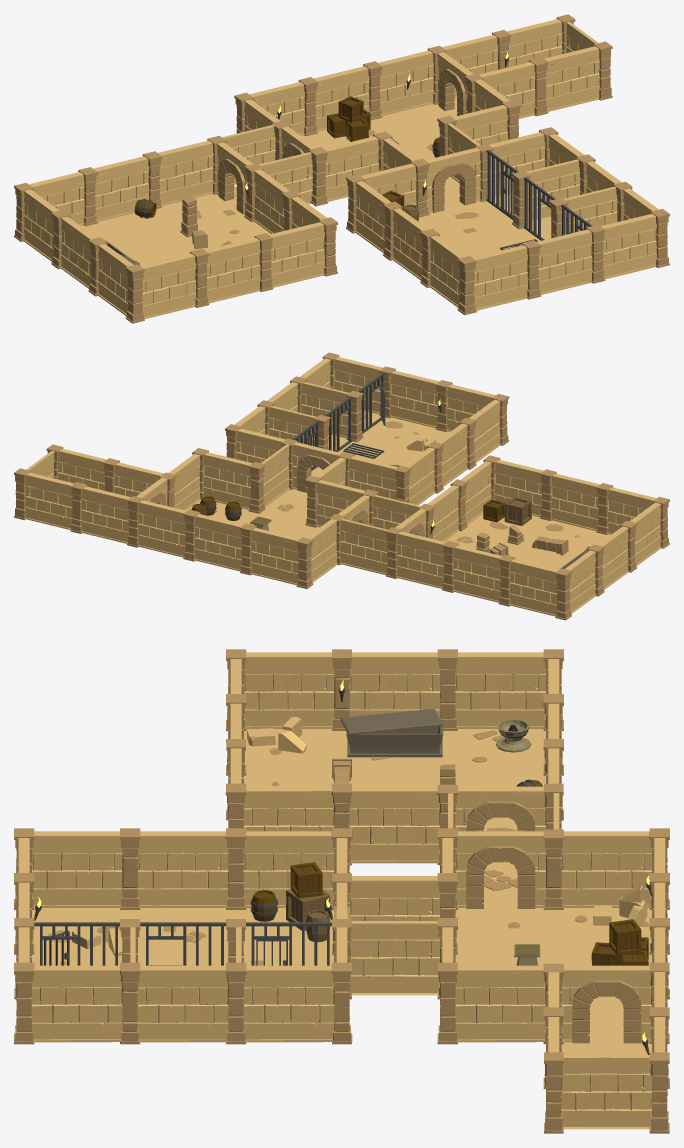
Rendered from ModularDungeonSandBiome_ExampleScene.glb.
3 renders of one model, top to bottom at view 1: azimuth 30°, elevation 25°; view 2: azimuth 150°, elevation 25°; view 3: azimuth 270°, elevation 25°, orthographic. The views are drawn at different scales.
Parts seen in each view (by area): view 1: Pillar1Wall1.006, Pillar1Wall1.017, Pillar1Wall1.002, Pillar1Wall1.013, Pillar2Wall1.007, Pillar2Wall1.006, Pillar2Wall1.001, Pillar1Wall1.014, Pillar2Wall1.008, Pillar2Wall1.005, Pillar1Wall1.010, Pillar2Door.001 (+47 smaller); view 2: Pillar3Wall1.001, Pillar1Wall1.019, Pillar2Wall1.008, Pillar1Wall1.011, Pillar2Wall1.002, Pillar2Wall1.005, Pillar1Wall1.013, Pillar1Wall1.014, Pillar1Wall1.012, Pillar3Wall1.006, Pillar1Wall1.002, Pillar2Wall1.007 (+46 smaller); view 3: Pillar1Wall1.007, Pillar3Wall1.002, Pillar1Wall1.003, Pillar1Wall1.020, Pillar1Wall1.004, Pillar3Wall1.003, Pillar3Wall1.009, Pillar3Wall1.008, Pillar1Wall1.016, Pillar1Wall1.008, Pillar1Wall1.015, Pillar3Door.001 (+55 smaller).
Boxes of the visible parts, x1,y1,x2,y2 form: Pillar1Wall1.006: [457, 245, 528, 315]; Pillar1Wall1.017: [125, 253, 196, 323]; Pillar1Wall1.002: [522, 229, 592, 299]; Pillar1Wall1.013: [190, 238, 260, 307]; Pillar2Wall1.007: [254, 222, 325, 291]; Pillar2Wall1.006: [544, 41, 612, 111]; Pillar2Wall1.001: [586, 214, 657, 283]; Pillar1Wall1.014: [93, 151, 161, 221]; Pillar2Wall1.008: [158, 135, 226, 205]; Pillar2Wall1.005: [378, 45, 446, 115]; Pillar1Wall1.010: [309, 136, 379, 206]; Pillar2Door.001: [425, 143, 493, 213]; Pillar3Wall1.001: [203, 452, 265, 513]; Pillar1Wall1.019: [498, 554, 558, 616]; Pillar2Wall1.008: [385, 527, 445, 588]; Pillar1Wall1.011: [183, 509, 243, 571]; Pillar2Wall1.002: [14, 468, 73, 529]; Pillar2Wall1.005: [127, 496, 186, 557]; Pillar1Wall1.013: [551, 473, 613, 534]; Pillar1Wall1.014: [442, 541, 502, 602]; Pillar1Wall1.012: [240, 523, 299, 585]; Pillar3Wall1.006: [70, 482, 130, 543]; Pillar1Wall1.002: [390, 370, 452, 431]; Pillar2Wall1.007: [494, 459, 556, 520]; Pillar1Wall1.007: [14, 962, 122, 1044]; Pillar3Wall1.002: [120, 962, 228, 1044]; Pillar1Wall1.003: [225, 962, 334, 1044]; Pillar1Wall1.020: [437, 962, 545, 1044]; Pillar1Wall1.004: [137, 828, 246, 909]; Pillar3Wall1.003: [32, 828, 140, 909]; Pillar3Wall1.009: [243, 649, 351, 730]; Pillar3Wall1.008: [331, 783, 439, 865]; Pillar1Wall1.016: [455, 649, 563, 730]; Pillar1Wall1.008: [561, 828, 669, 909]; Pillar1Wall1.015: [349, 649, 457, 730]; Pillar3Door.001: [455, 829, 563, 909].
Bounding box in the file's own units: 36.77 × 3.15 × 24.78.
